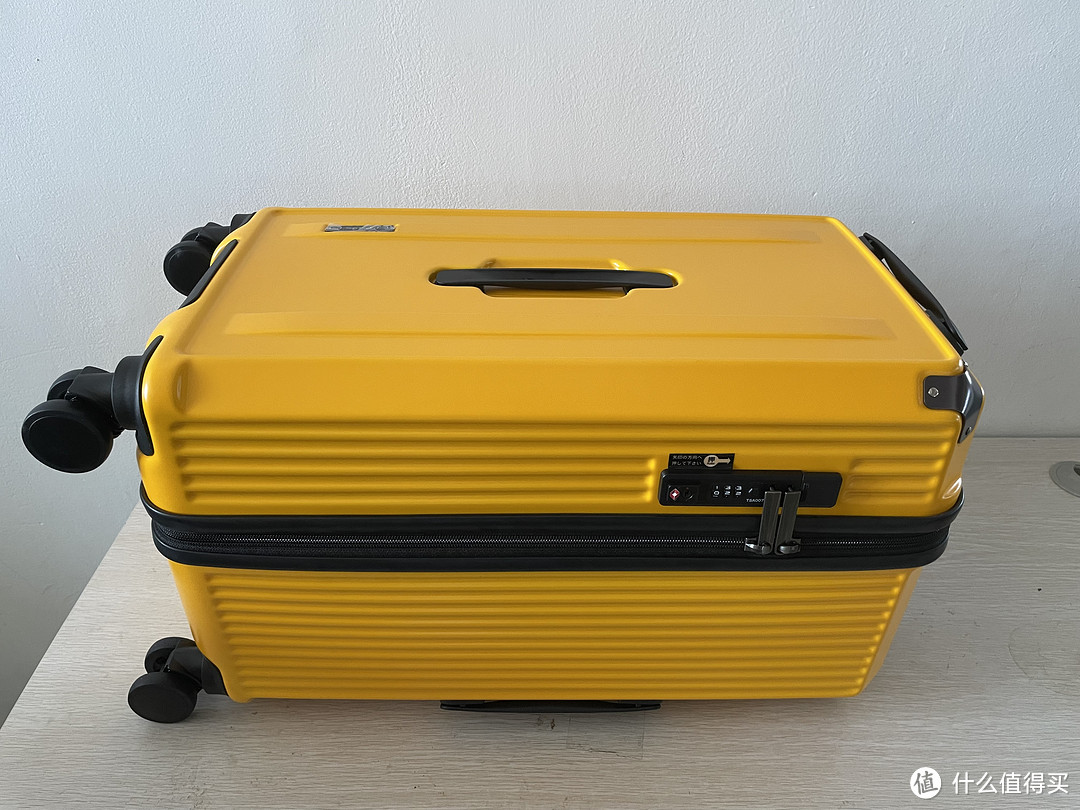box: (134, 207, 982, 704)
lock: (658, 469, 844, 555)
wheel: (20, 365, 124, 474), (127, 636, 199, 724), (162, 222, 231, 298)
